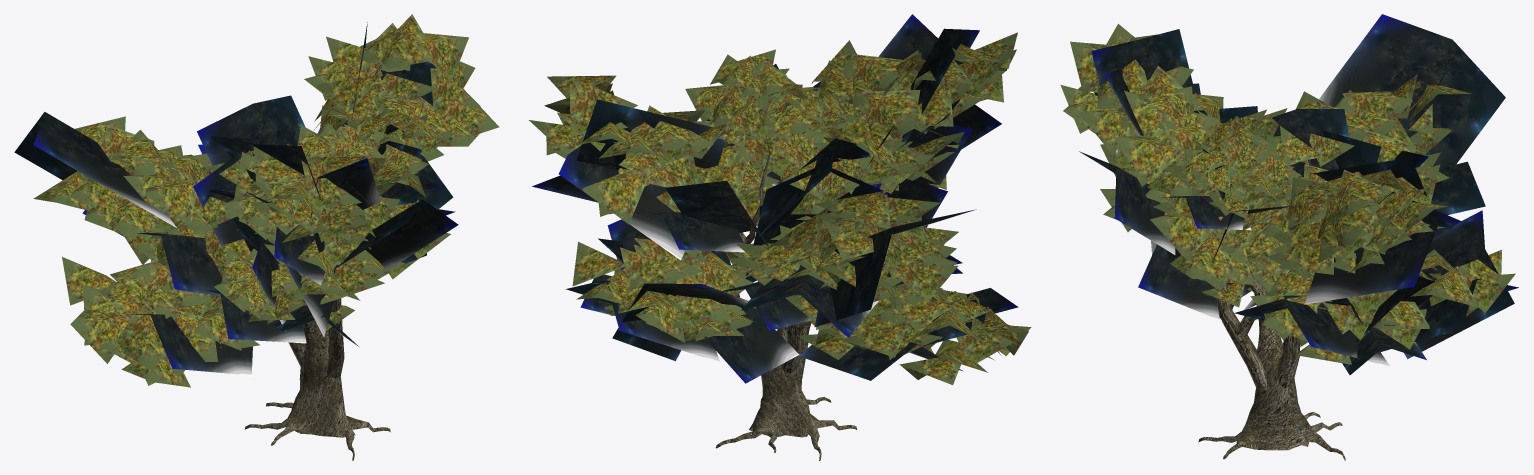
The model's file is oak_b_fall.fbx.
The picture shows the model from 3 angles, left to right: view 1: azimuth 30°, elevation 25°; view 2: azimuth 150°, elevation 25°; view 3: azimuth 270°, elevation 25°; orthographic projection. The views are drawn at different scales.
Parts seen in each view (by area): view 1: oak_fall_b; view 2: oak_fall_b; view 3: oak_fall_b.
Boxes of the visible parts, left/top/right/bottom form: oak_fall_b: left=14, top=14, right=499, bottom=460; oak_fall_b: left=529, top=14, right=1031, bottom=460; oak_fall_b: left=1060, top=14, right=1518, bottom=460.
Bounding box in the file's own units: 1728 × 1351 × 1549.
Materials: 3 (3 with a texture image).
